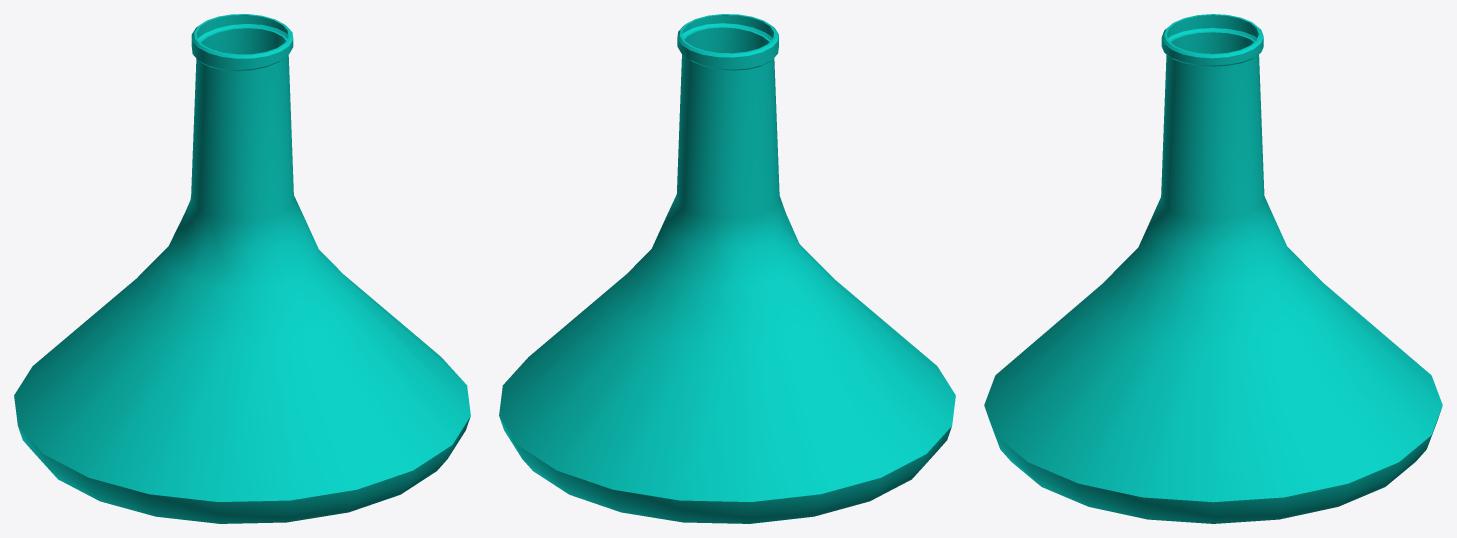
The model's file is Flask Object.fbx.
3 renders of one model, left to right at view 1: azimuth 30°, elevation 25°; view 2: azimuth 150°, elevation 25°; view 3: azimuth 270°, elevation 25°, orthographic.
Visible parts, largest first — view 1: pCone1; view 2: pCone1; view 3: pCone1.
Boxes of the visible parts, x1,y1,x2,y2 form: pCone1: (14,14,470,523); pCone1: (499,14,955,523); pCone1: (984,14,1442,523).
Bounding box in the file's own units: 1.49 × 1.43 × 1.49.
